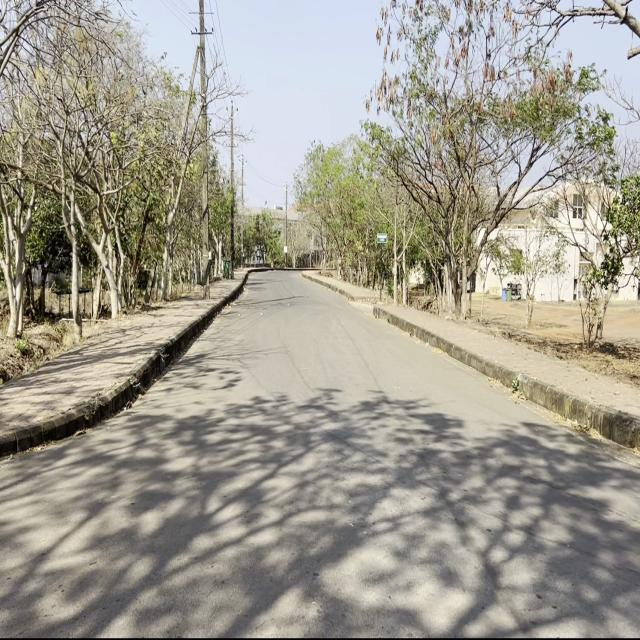Road: (3, 273, 638, 634)
